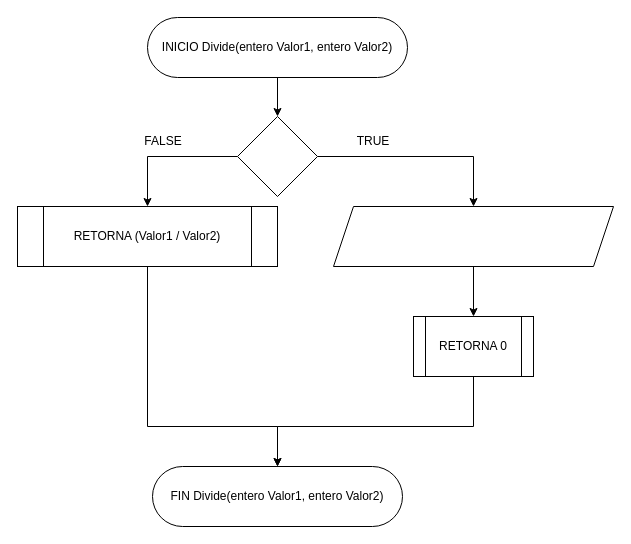
This 631x544 diagram has some shape labels left out. The centre of each missing label's shape, as x and y in pixels:
"No se puede dividir un número entre 0": point 473,236
Valor == 0: point 277,156
